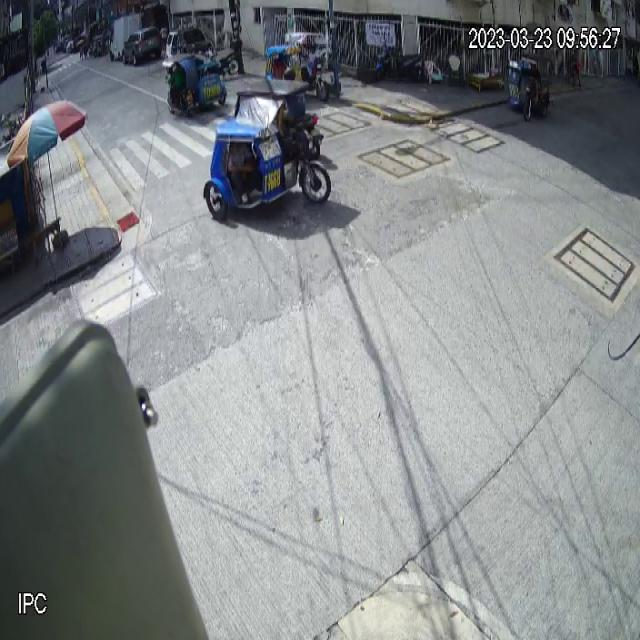Tricycle: (202, 78, 332, 221), (161, 50, 227, 118), (506, 54, 551, 122)
